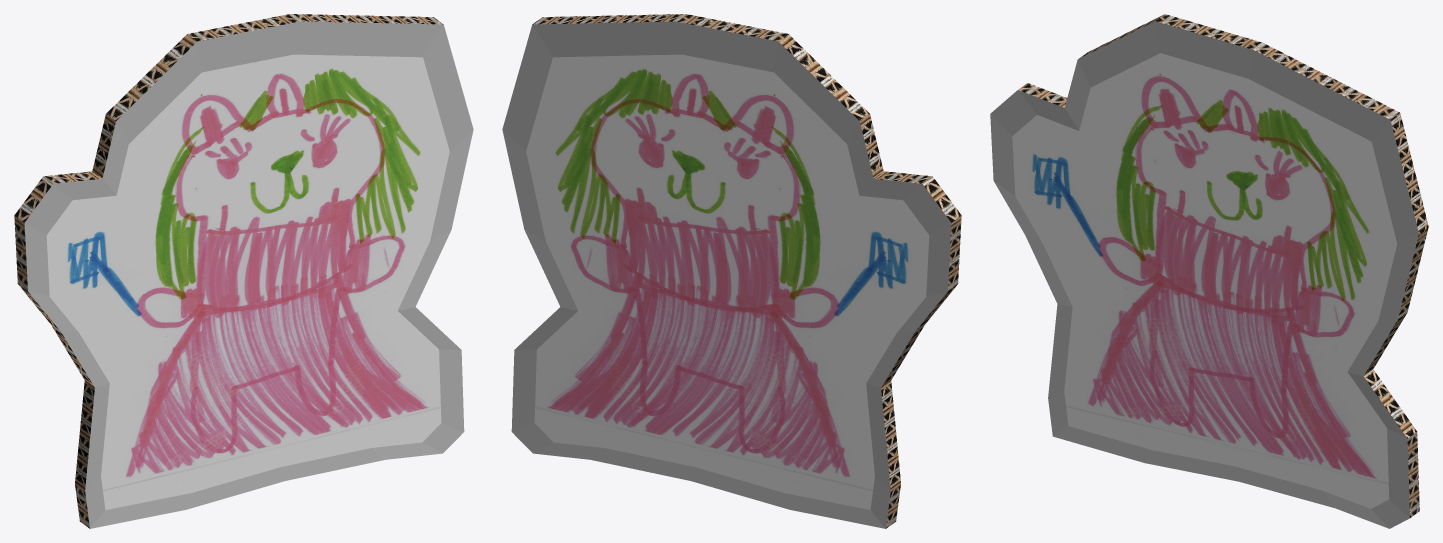
Rendered from PrinsessaKarhu.fbx.
3 views of the same model, side by side, from view 1: azimuth 30°, elevation 25°; view 2: azimuth 150°, elevation 25°; view 3: azimuth 330°, elevation 25° (orthographic). The views are drawn at different scales.
Parts seen in each view (by area): view 1: PrinsessaKarhu; view 2: PrinsessaKarhu; view 3: PrinsessaKarhu.
Boxes of the visible parts, x1,y1,x2,y2 form: PrinsessaKarhu: [14, 14, 473, 528]; PrinsessaKarhu: [502, 14, 961, 528]; PrinsessaKarhu: [990, 14, 1428, 528].
Bounding box in the file's own units: 206 × 207 × 8.1.
